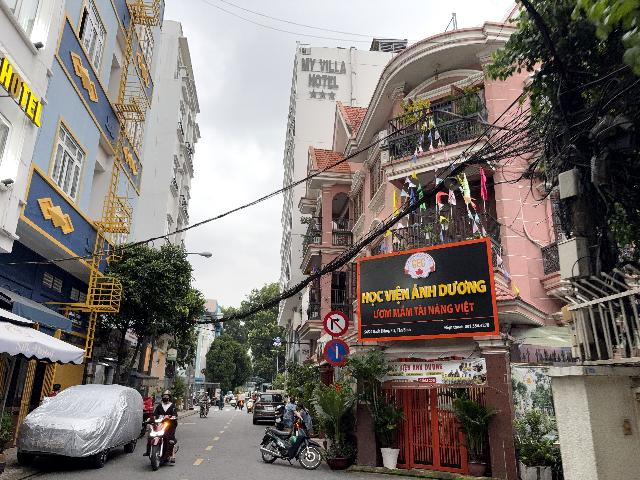cam-do-xe-ngay-le: (323, 338, 350, 366)
cam-re-phai: (323, 310, 349, 337)
